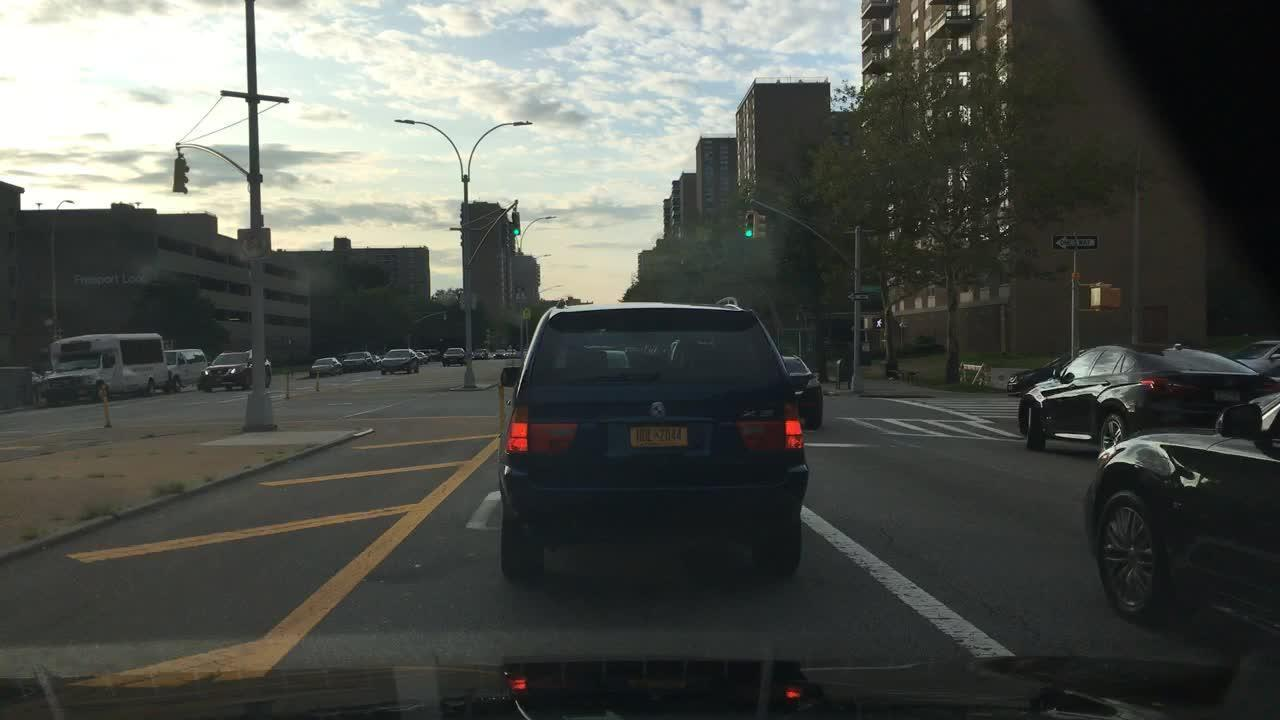bmw: (646, 399, 667, 421)
